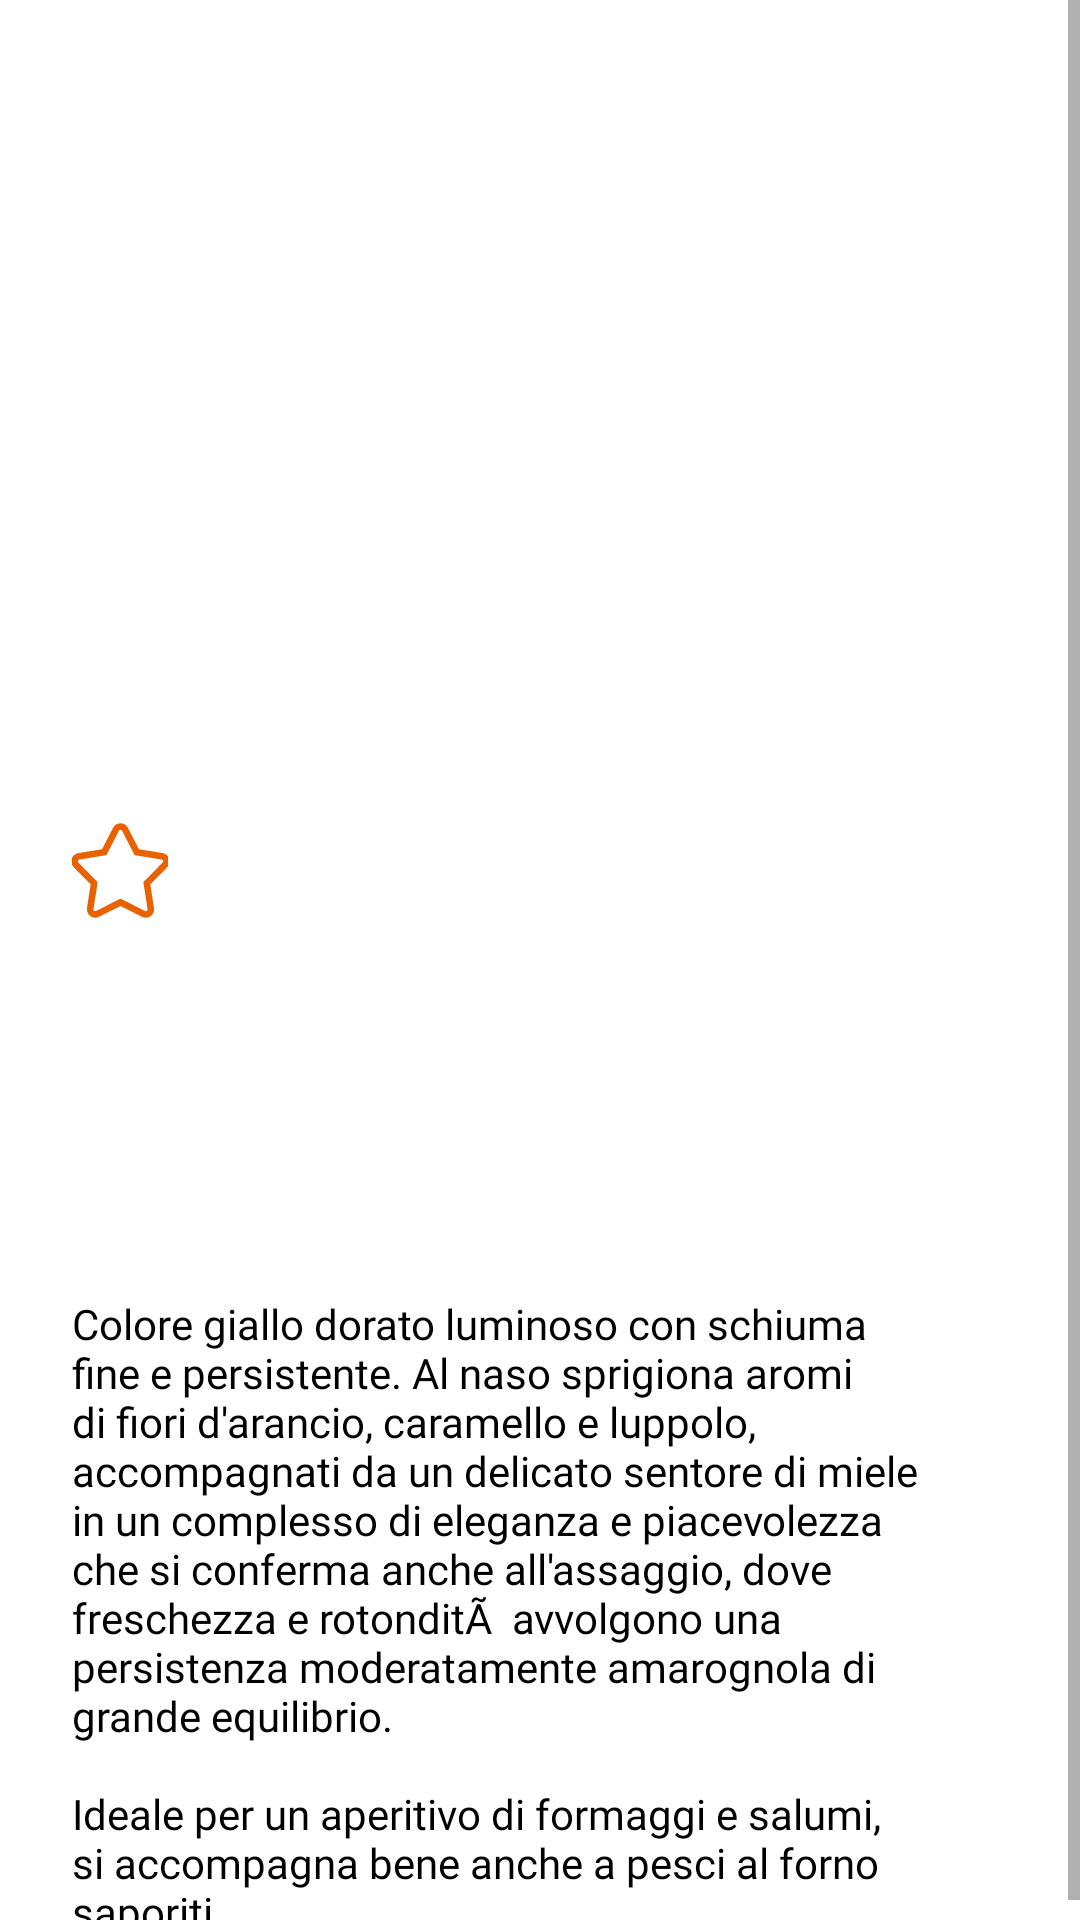

Where icons sit on this 1080*1920 app screen, as region(x1, y1, x2, y2):
favourite: region(72, 823, 168, 918)
